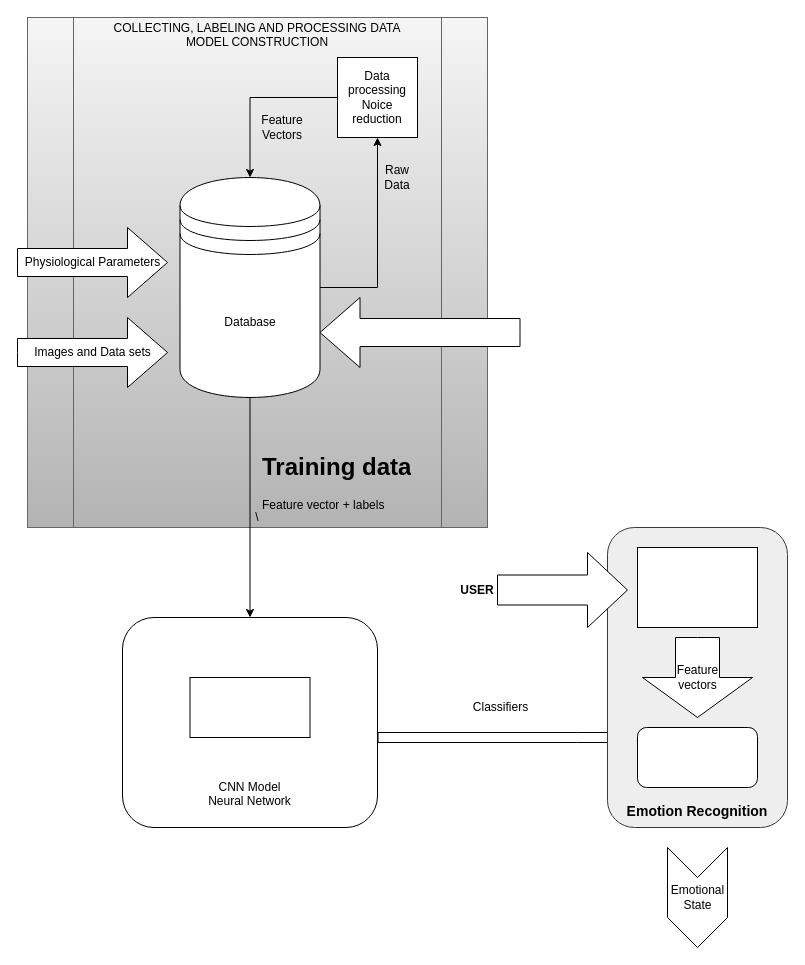
The diagram is 805 pixels wide and 965 high, and some of its shapes have lost their labels. The centre of each missing label's shape, as x and y in pixels:
"CNN image Classifer" belongs at point 697,757.
"Data Preprocessing and Represenation" belongs at point 697,587.
"Image Source Depth infromation" belongs at point 562,590.
"Supervised Data sets and instructions" belongs at point 419,332.
"Training" belongs at point 249,707.
